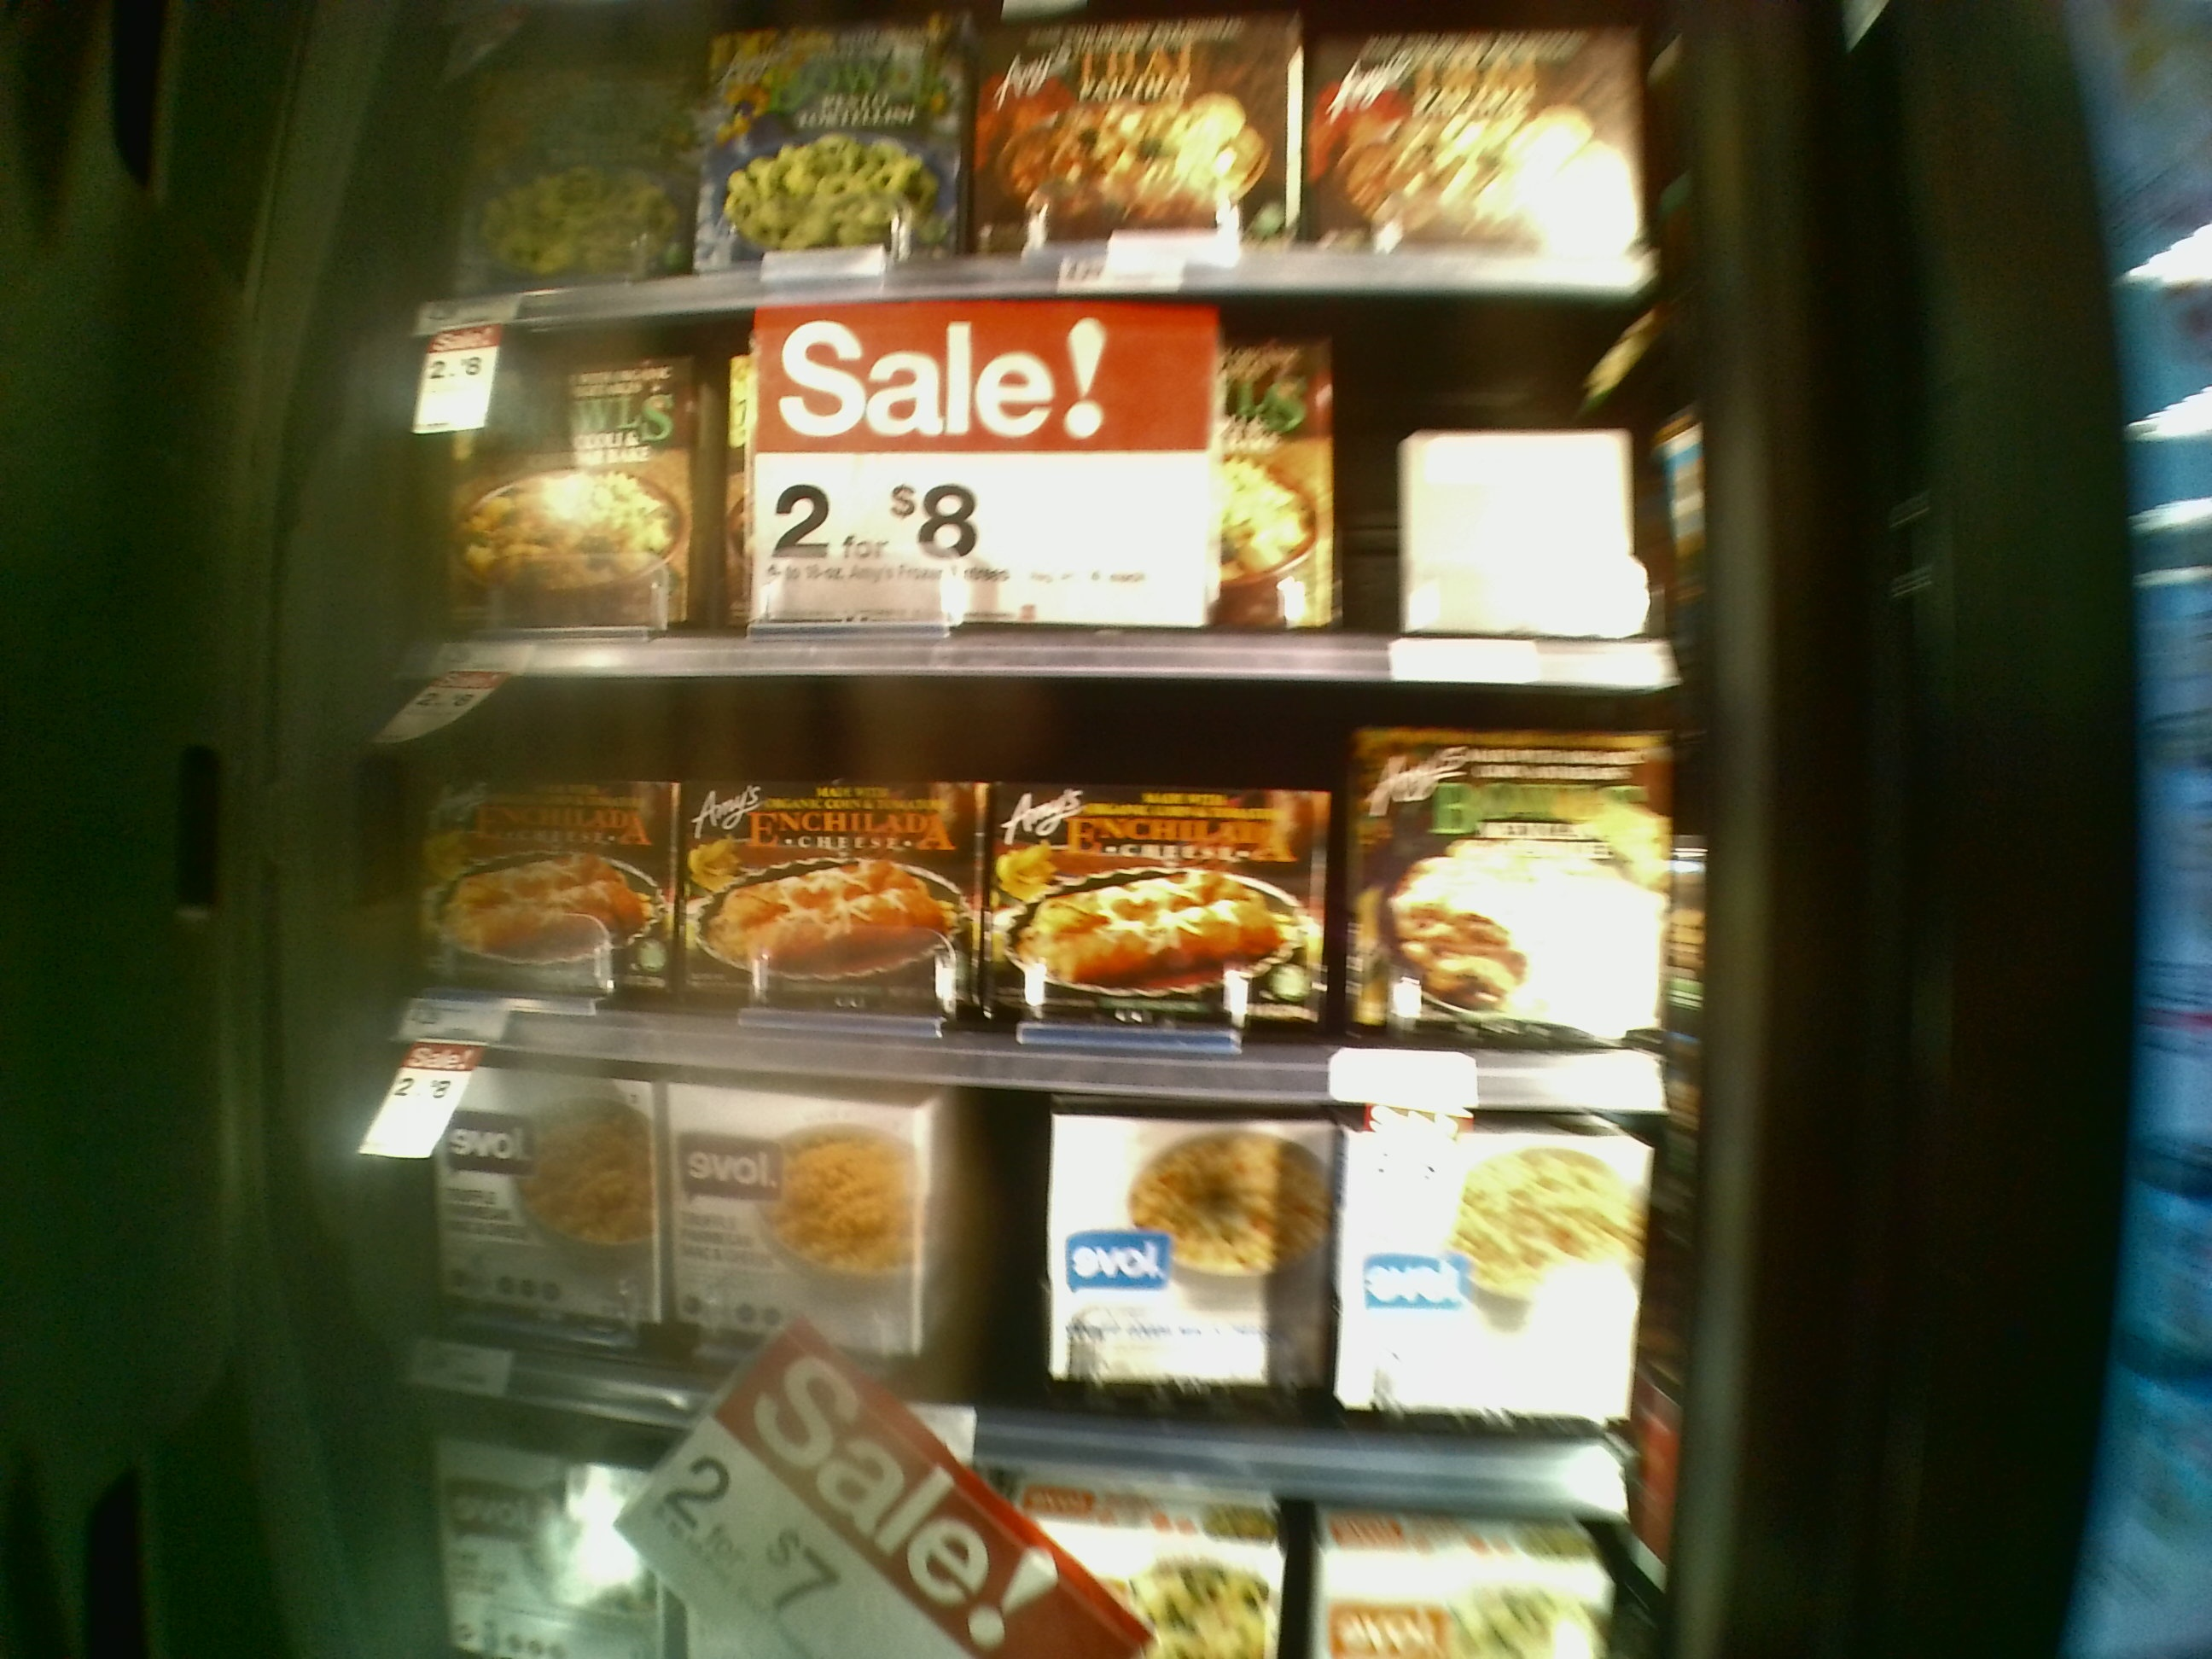shelf: (413, 683, 1637, 1093), (420, 298, 1696, 681), (404, 1107, 1644, 1474)
